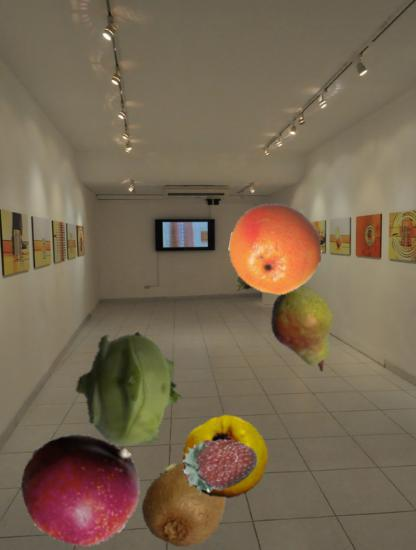Eggplant: (224, 215, 315, 306)
Grapefruit: (229, 202, 322, 295)
Kiwi: (140, 459, 231, 550)
Kohlrabi: (72, 331, 189, 448)
Nectarine: (22, 429, 140, 547)
Pear: (259, 284, 350, 375)
Quince: (182, 414, 270, 502)
Strawberry: (181, 424, 258, 501)
